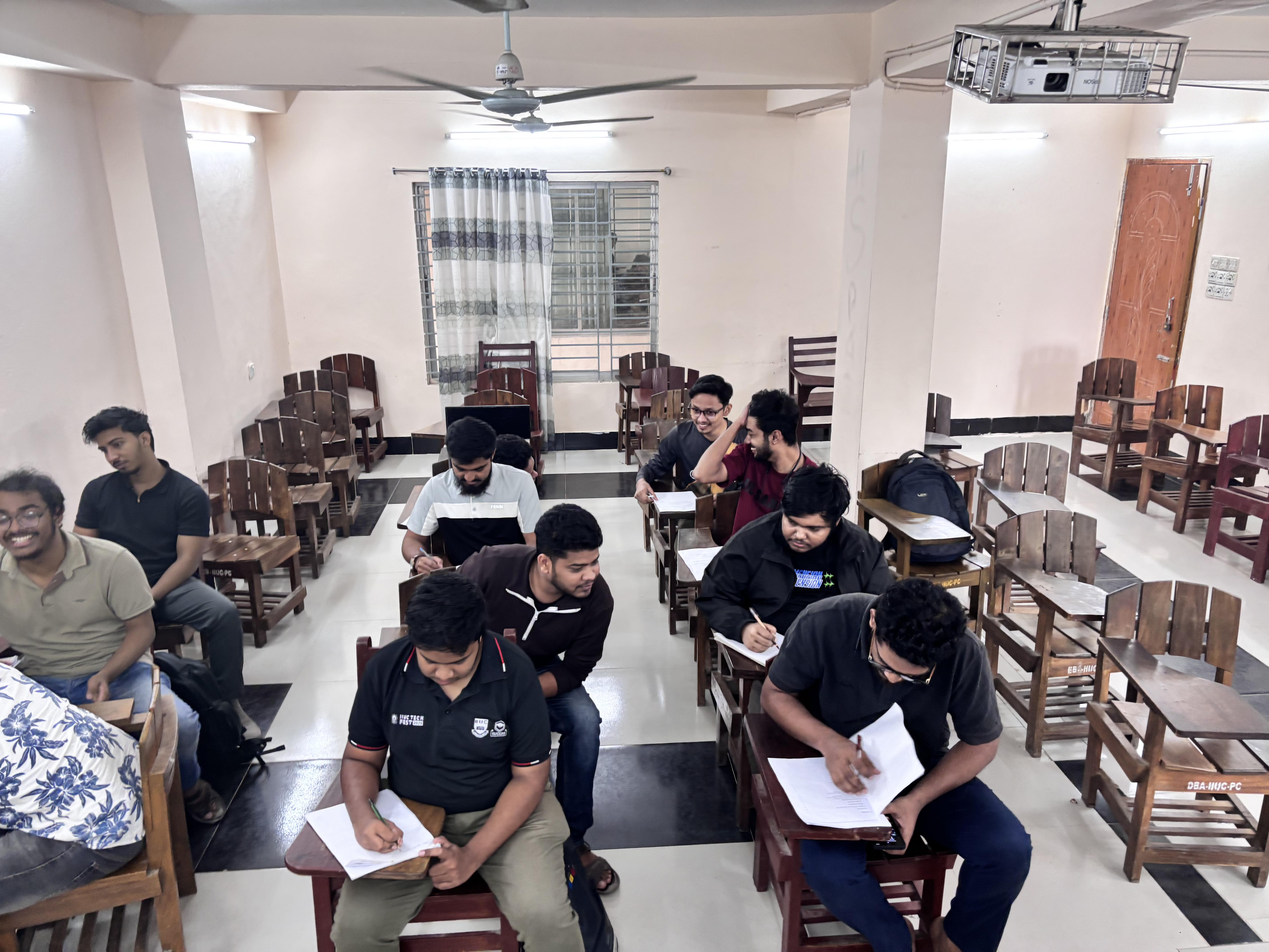copying: (464, 498, 627, 718), (718, 466, 852, 672), (643, 370, 735, 529)
no_cheating: (343, 574, 530, 896), (69, 392, 208, 570), (402, 416, 530, 577)
side_talking: (1, 458, 122, 691), (714, 388, 804, 512)
using_phone: (760, 572, 993, 903)
